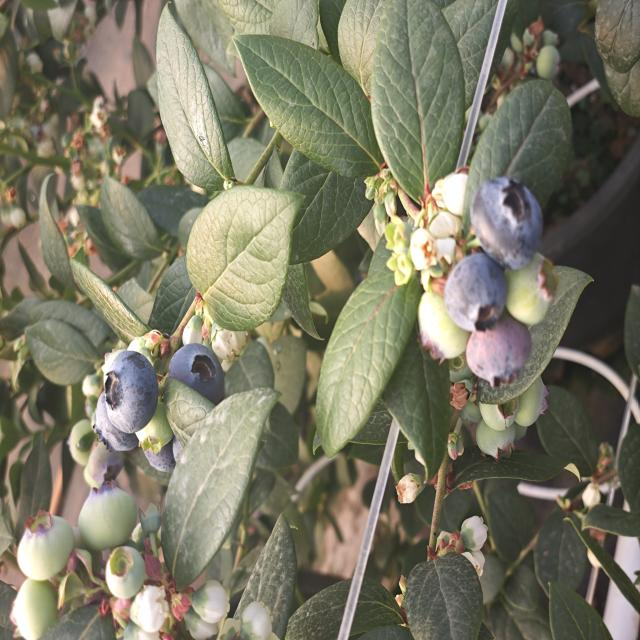ripe: (464, 168, 546, 273), (433, 248, 507, 335), (100, 350, 163, 435), (168, 336, 226, 412), (87, 386, 139, 462), (138, 428, 182, 482)
